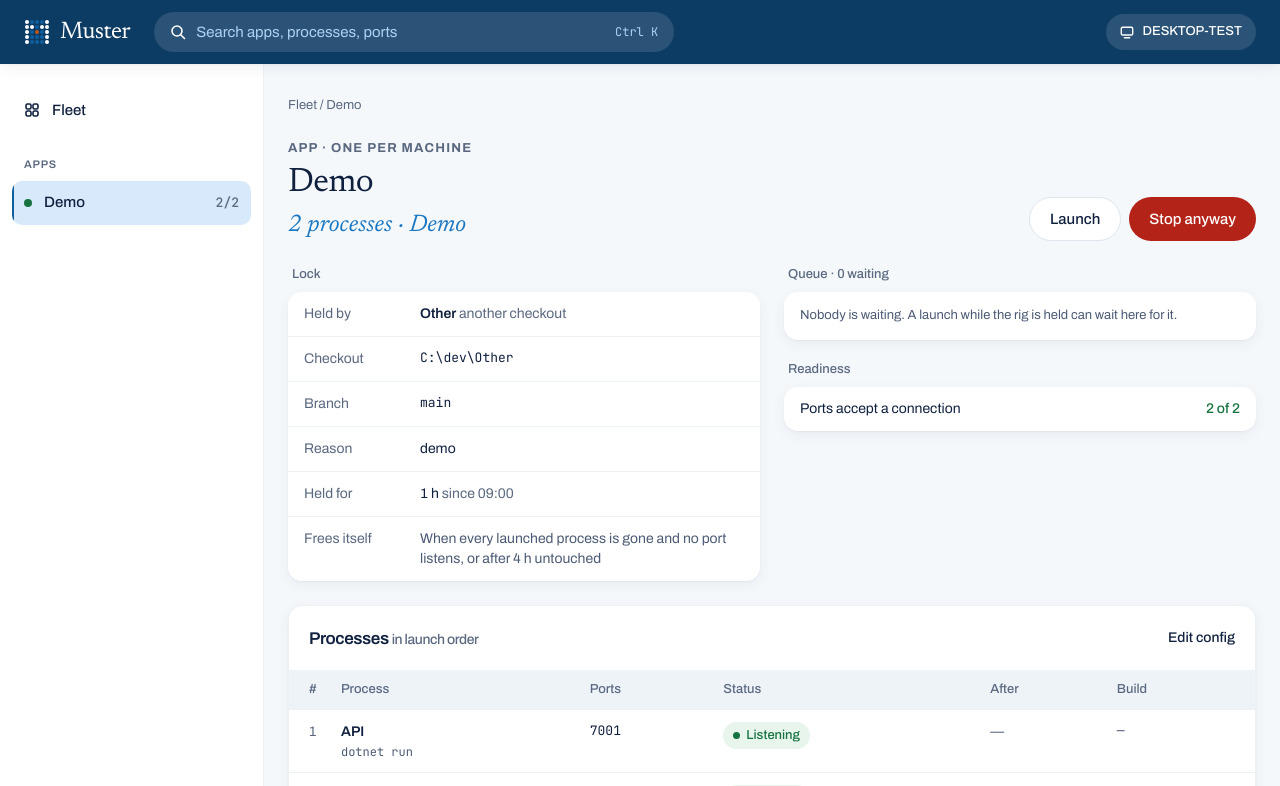
Test case: Fleet › offers the launch-blocked dialog when another checkout holds the rig, and takes it over
The image size is (1280, 786).
What coordinates should you click on to do the following:
click the button "Launch"
I would click on:
 (1075, 219)
Its box is [1029,197,1121,241].
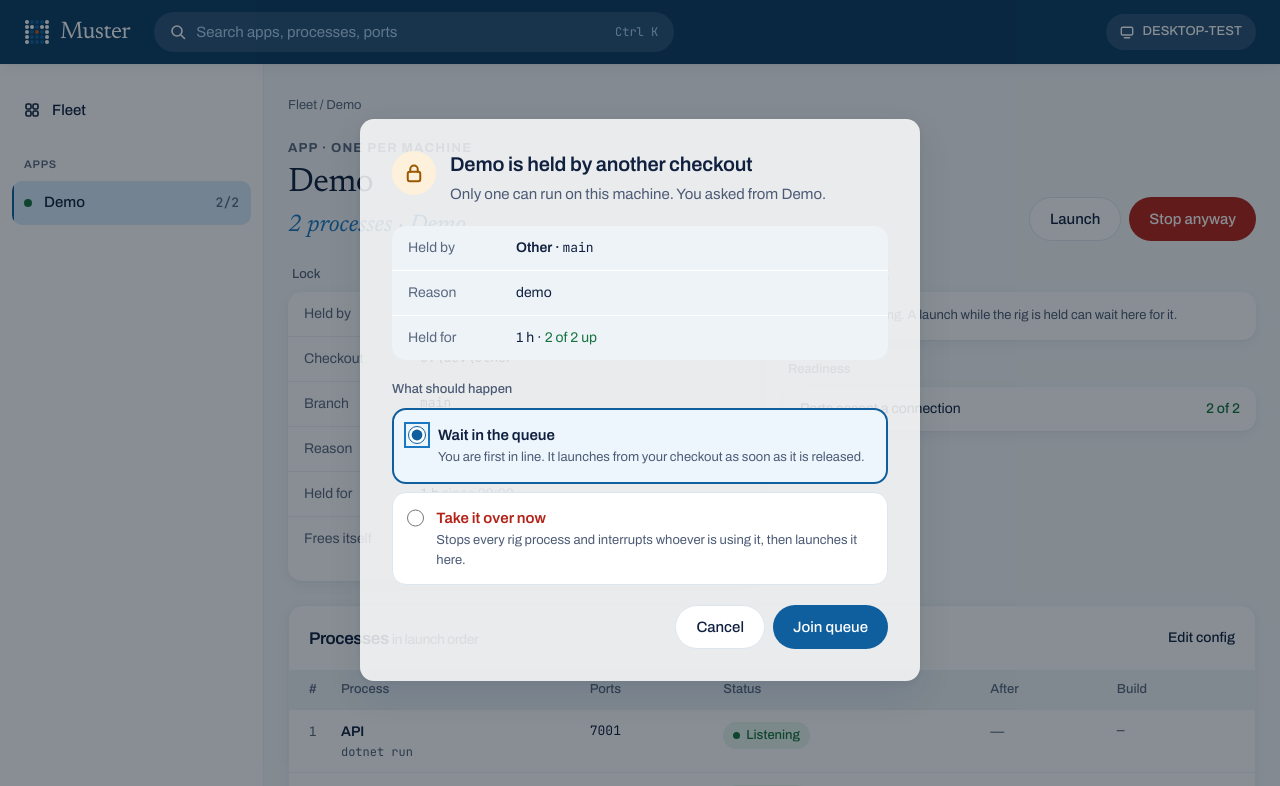
Check: the text "Other ·" is shown, box [516,238,594,258]
What coordinates should you click on to do the following:
click the radio button labelled "Take it over now"
I would click on:
 (416, 518)
Its box is [407,509,424,527].
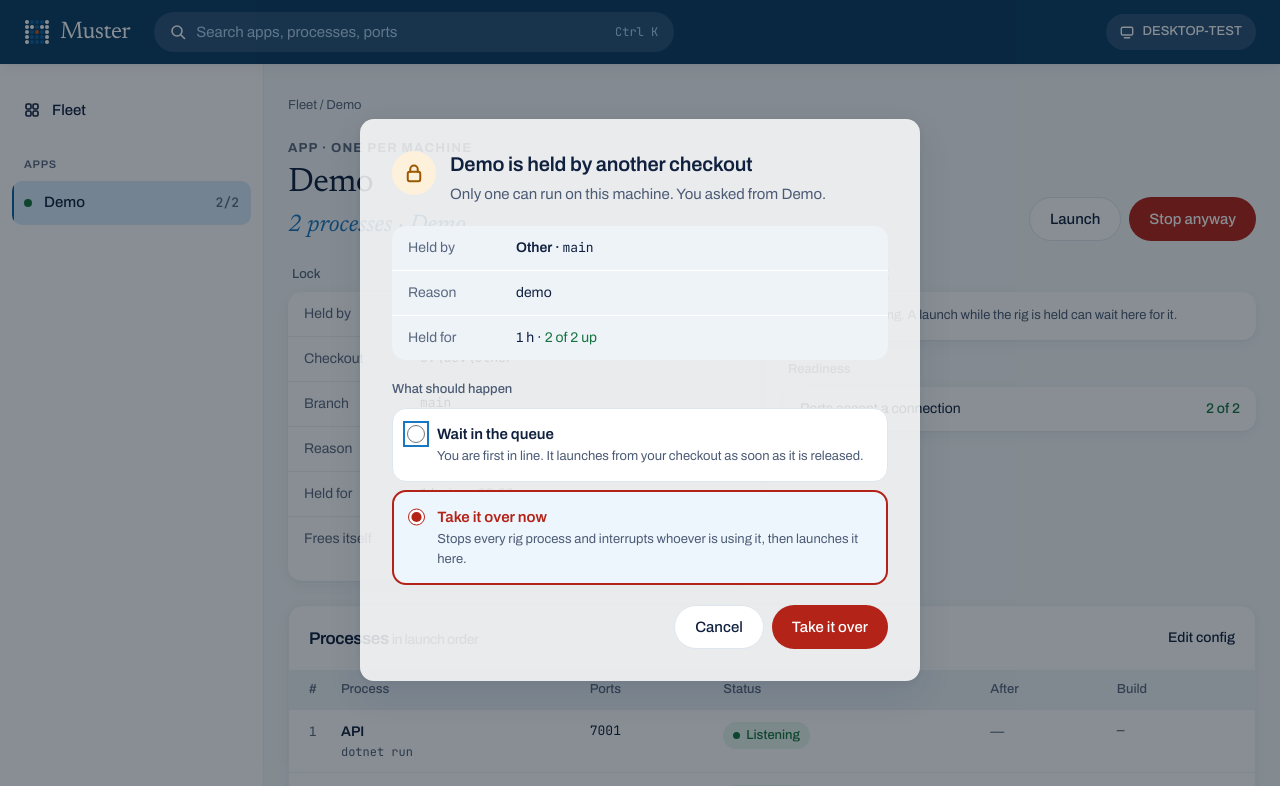
What coordinates should you click on to do the following:
click the button "Take it over"
I would click on:
 (830, 627)
Its box is [772,605,888,649].
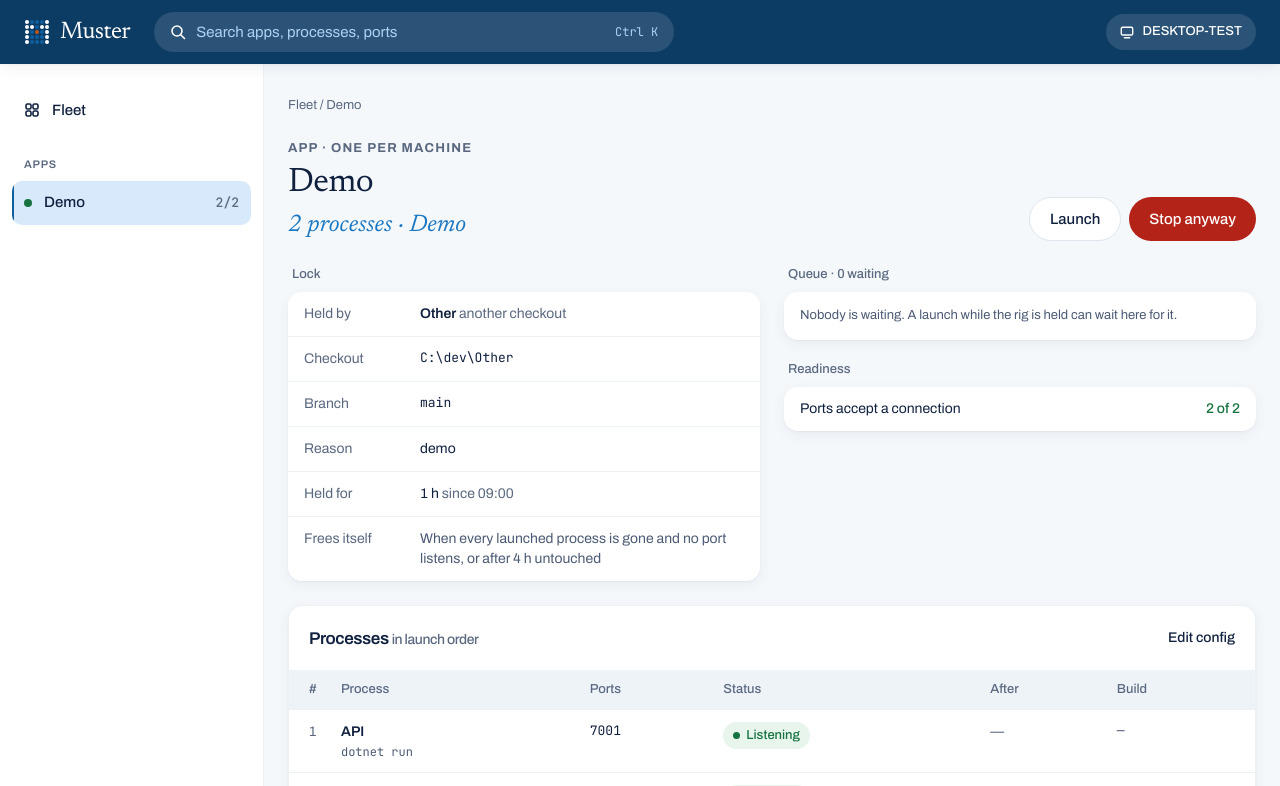
Check: the button "Cancel" is gone
Check: the dialog is gone
